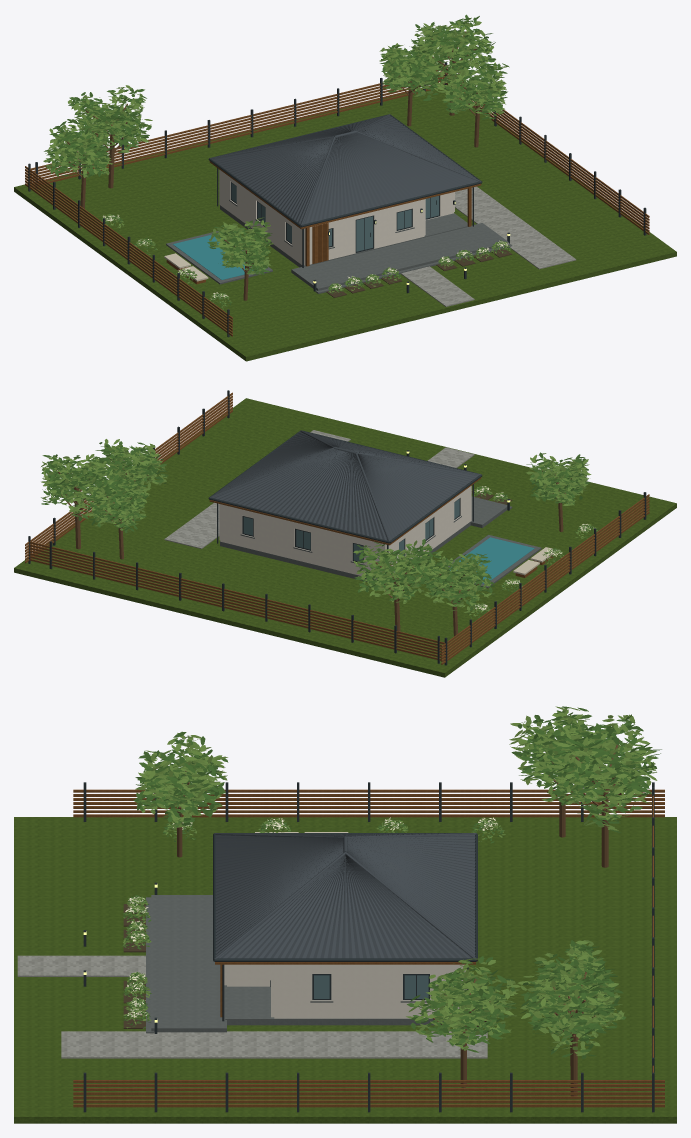
Rendered from casa-02.glb.
3 views of the same model, one above another, from view 1: azimuth 30°, elevation 25°; view 2: azimuth 150°, elevation 25°; view 3: azimuth 270°, elevation 25° (orthographic). The views are drawn at different scales.
Visible parts, largest first — view 1: landscape_grass.001, architecture_roof.001, landscape_wood.001, landscape_leaf-light.001, landscape_leaf.001, landscape_stone.001, architecture_stucco.001, landscape_paving.001, architecture_metal.001, landscape_metal.001, architecture_wood.001, architecture_glass.001 (+4 smaller); view 2: landscape_grass.001, architecture_roof.001, landscape_wood.001, landscape_leaf-light.001, landscape_leaf.001, architecture_stucco.001, landscape_paving.001, architecture_metal.001, landscape_metal.001, landscape_water, landscape_stone.001, landscape_trunk.001 (+3 smaller); view 3: landscape_grass.001, architecture_roof.001, landscape_wood.001, landscape_leaf-light.001, landscape_leaf.001, landscape_paving.001, landscape_stone.001, architecture_stucco.001, architecture_stone.001, landscape_metal.001, architecture_metal.001, landscape_trunk.001 (+4 smaller).
Part boxes in pixels (box(x1,y1,x2,y2)): landscape_grass.001: box(14, 87, 676, 361); architecture_roof.001: box(209, 114, 480, 225); landscape_wood.001: box(25, 65, 649, 336); landscape_leaf-light.001: box(43, 17, 510, 309); landscape_leaf.001: box(44, 14, 511, 307); landscape_stone.001: box(166, 223, 512, 293); architecture_stucco.001: box(219, 169, 454, 265); landscape_paving.001: box(401, 186, 576, 306); architecture_metal.001: box(208, 114, 482, 267); landscape_metal.001: box(28, 62, 646, 337); architecture_wood.001: box(209, 161, 481, 266); architecture_glass.001: box(231, 183, 438, 251); landscape_grass.001: box(14, 398, 676, 677); architecture_roof.001: box(209, 430, 480, 541); landscape_wood.001: box(25, 392, 649, 664); landscape_leaf-light.001: box(41, 439, 597, 617); landscape_leaf.001: box(41, 441, 597, 618); architecture_stucco.001: box(219, 486, 471, 579); landscape_paving.001: box(164, 430, 474, 548); architecture_metal.001: box(208, 430, 482, 563); landscape_metal.001: box(28, 390, 646, 665); landscape_water: box(449, 537, 534, 583); landscape_stone.001: box(448, 496, 541, 588); landscape_trunk.001: box(57, 458, 571, 637); landscape_grass.001: box(14, 817, 676, 1123); architecture_roof.001: box(214, 833, 476, 959); landscape_wood.001: box(73, 789, 664, 1107); landscape_leaf-light.001: box(123, 706, 657, 1055); landscape_leaf.001: box(122, 706, 661, 1058); landscape_paving.001: box(17, 955, 487, 1058); landscape_stone.001: box(146, 895, 226, 1033); architecture_stucco.001: box(224, 964, 466, 1018); architecture_stone.001: box(225, 985, 443, 1025); landscape_metal.001: box(83, 782, 654, 1112); architecture_metal.001: box(213, 833, 477, 1021); landscape_trunk.001: box(154, 741, 625, 1096).
Bounding box in the file's own units: 31.06 × 6.4 × 28.
Materials: 17 (5 with a texture image).
